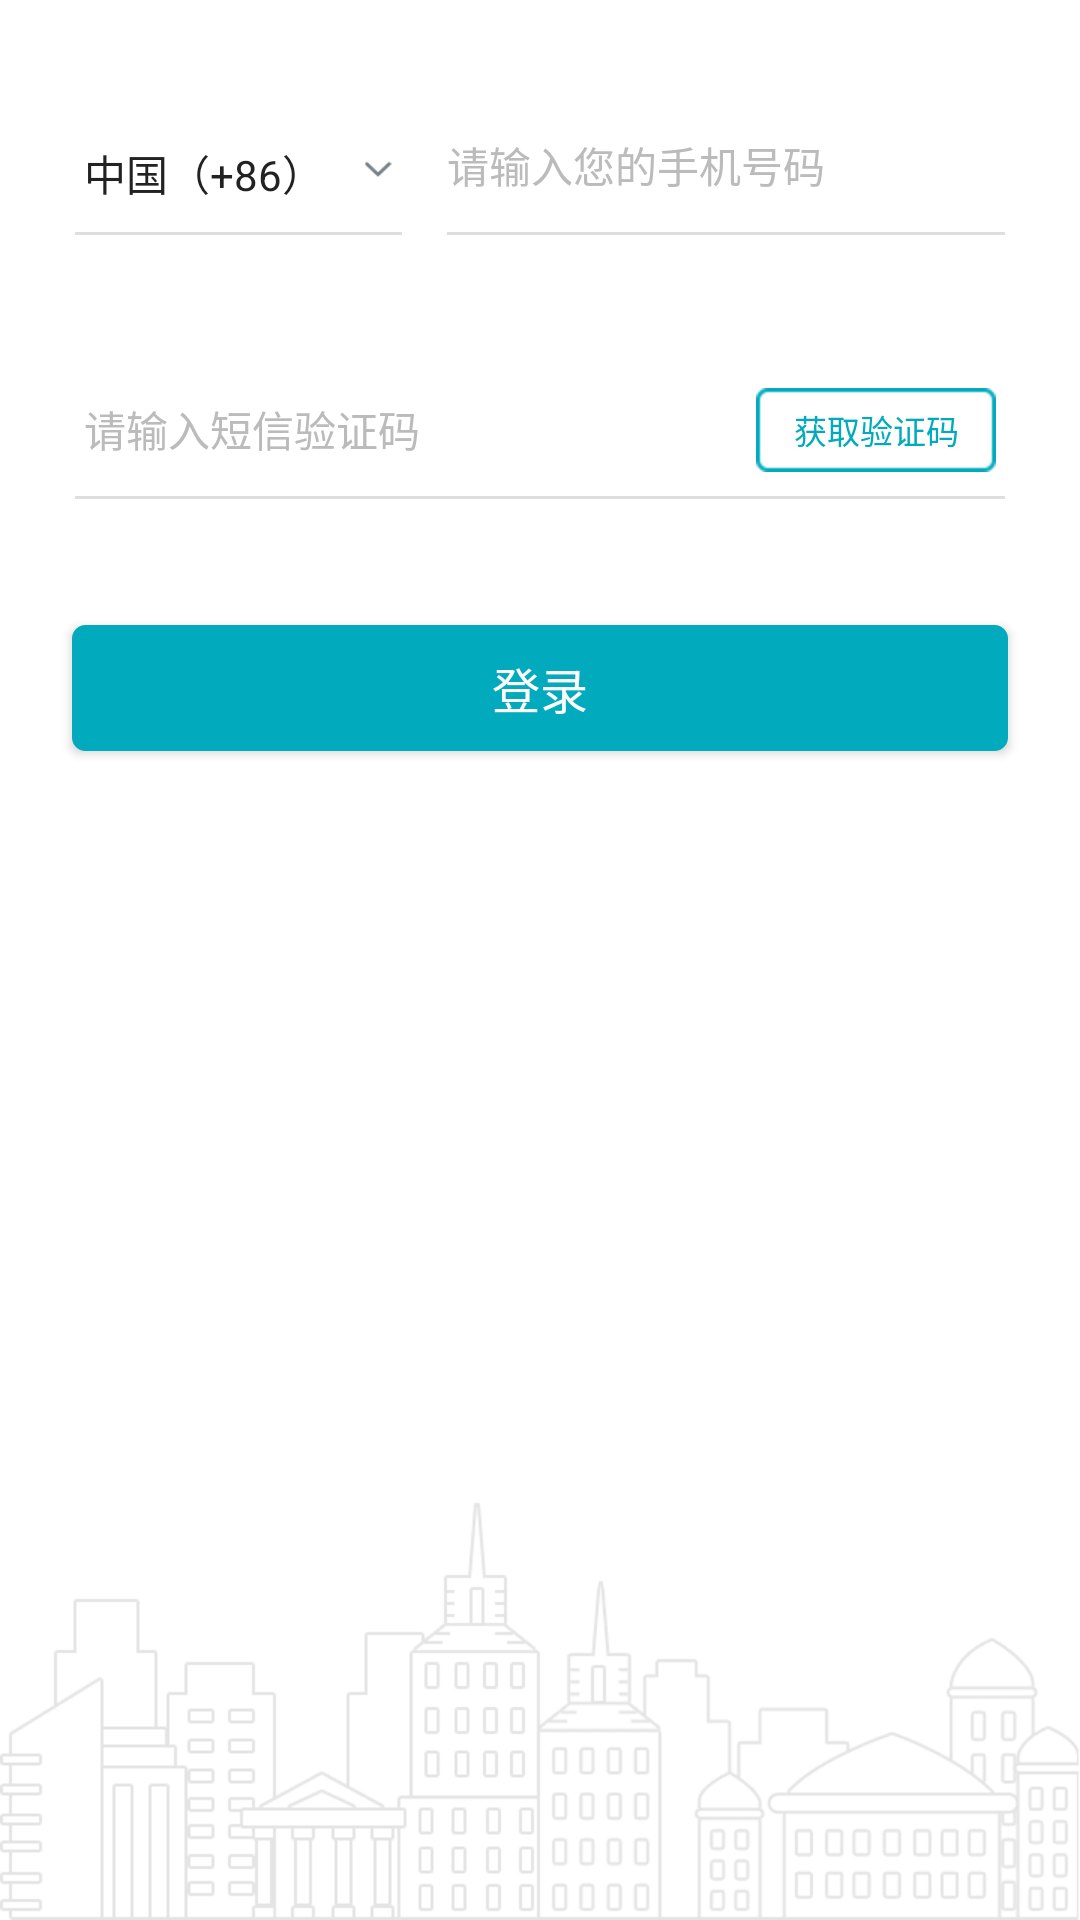

Icon bounding boxes for this 1080px x 1920px phone screenshot, format (x1, y1, x2, y2):
top down: (365, 162, 392, 177)
